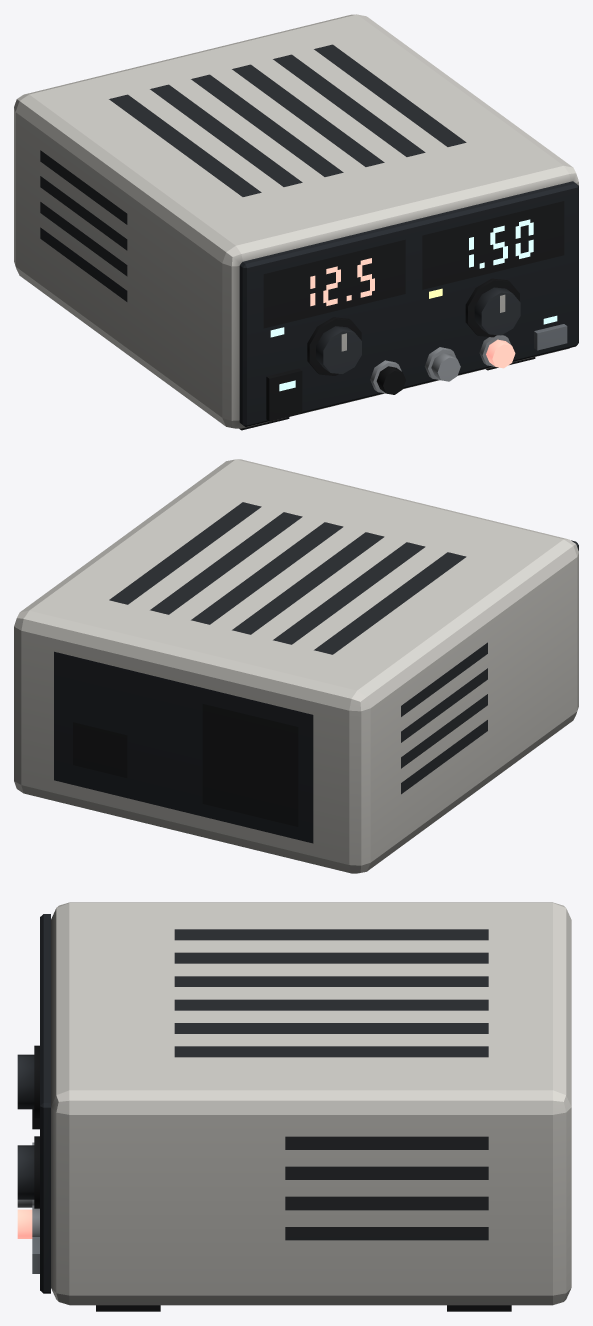
Rendered from powerSupply.glb.
The picture shows the model from 3 angles, top to bottom: view 1: azimuth 30°, elevation 25°; view 2: azimuth 150°, elevation 25°; view 3: azimuth 270°, elevation 25°; orthographic projection. The views are drawn at different scales.
Visible parts, largest first — view 1: powerSupply; view 2: powerSupply; view 3: powerSupply.
Part boxes in pixels (x1,y1,x2,y2): powerSupply: [14, 14, 578, 430]; powerSupply: [14, 459, 578, 873]; powerSupply: [17, 902, 571, 1311].
Size of the model in its own units: 0.264 by 0.14 by 0.306.
